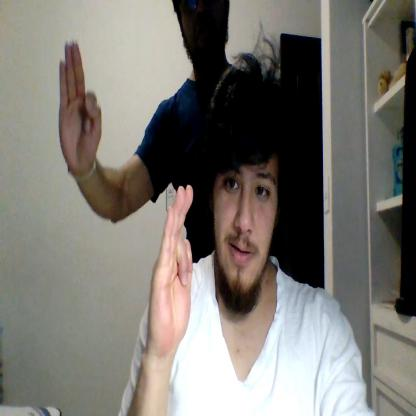F: (147, 185, 194, 350), (59, 39, 102, 170)
